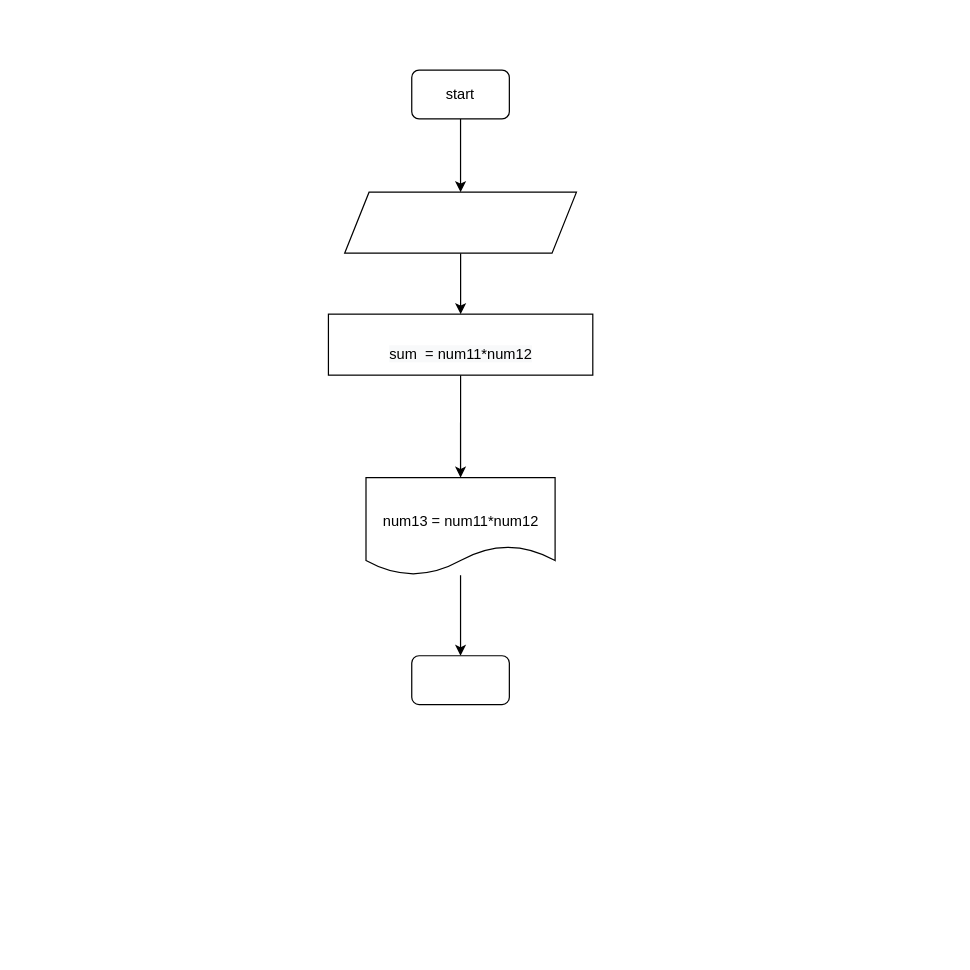
The diagram is 970 pixels wide and 970 high, and some of its shapes have lost their labels. Each missing label, with the centre of its shape:
end: the point at 460,680
input nam11,num12: the point at 459,222
